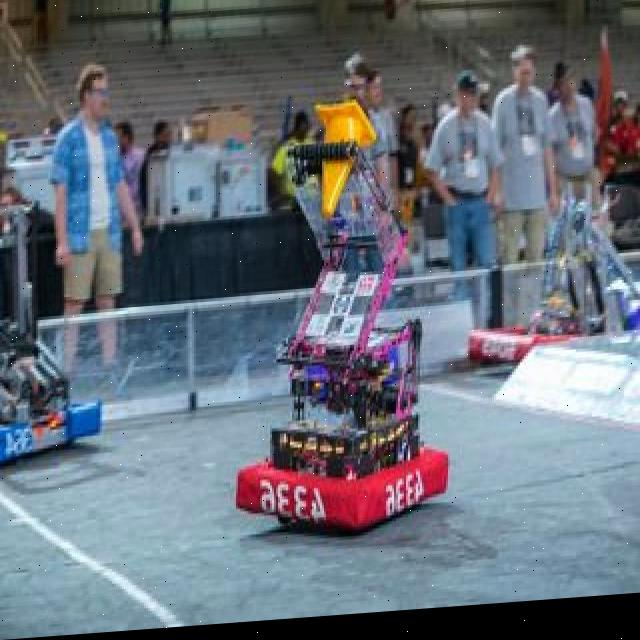robot: (230, 104, 453, 549), (459, 155, 640, 378), (0, 187, 114, 466)
